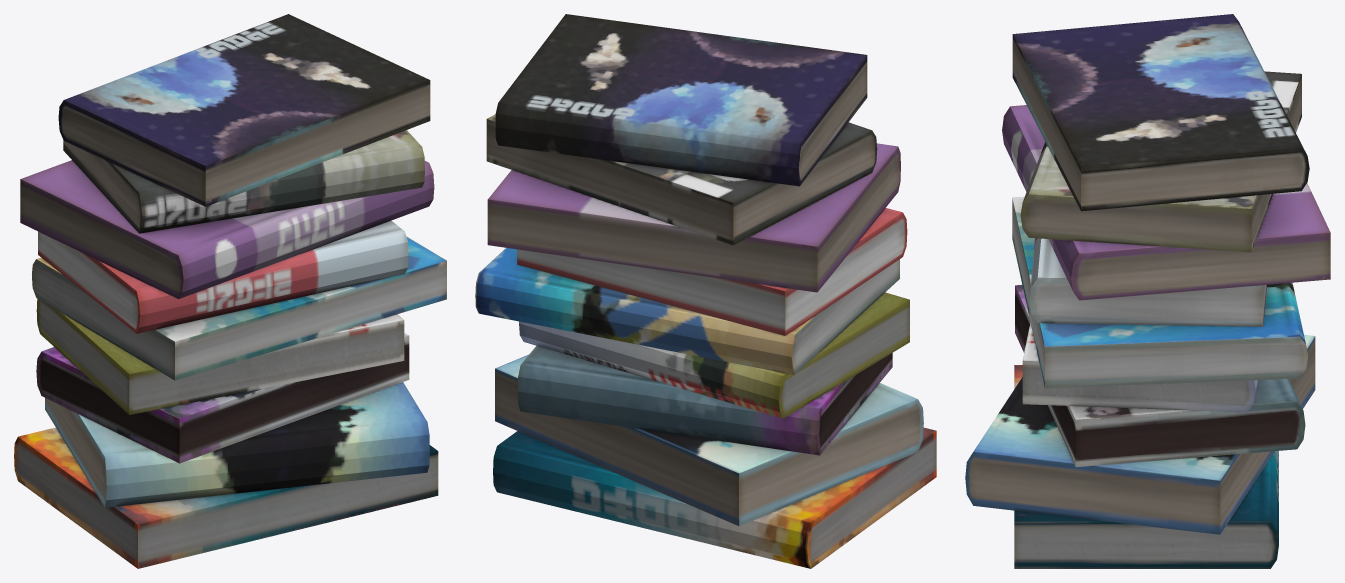
The model's file is P_Book_004_S1_M03.obj.
3 views of the same model, side by side, from view 1: azimuth 30°, elevation 25°; view 2: azimuth 150°, elevation 25°; view 3: azimuth 270°, elevation 25° (orthographic). The views are drawn at different scales.
Size of the model in its own units: 0.6408 by 0.7064 by 0.5662.
Materials: 1 (1 with a texture image).
